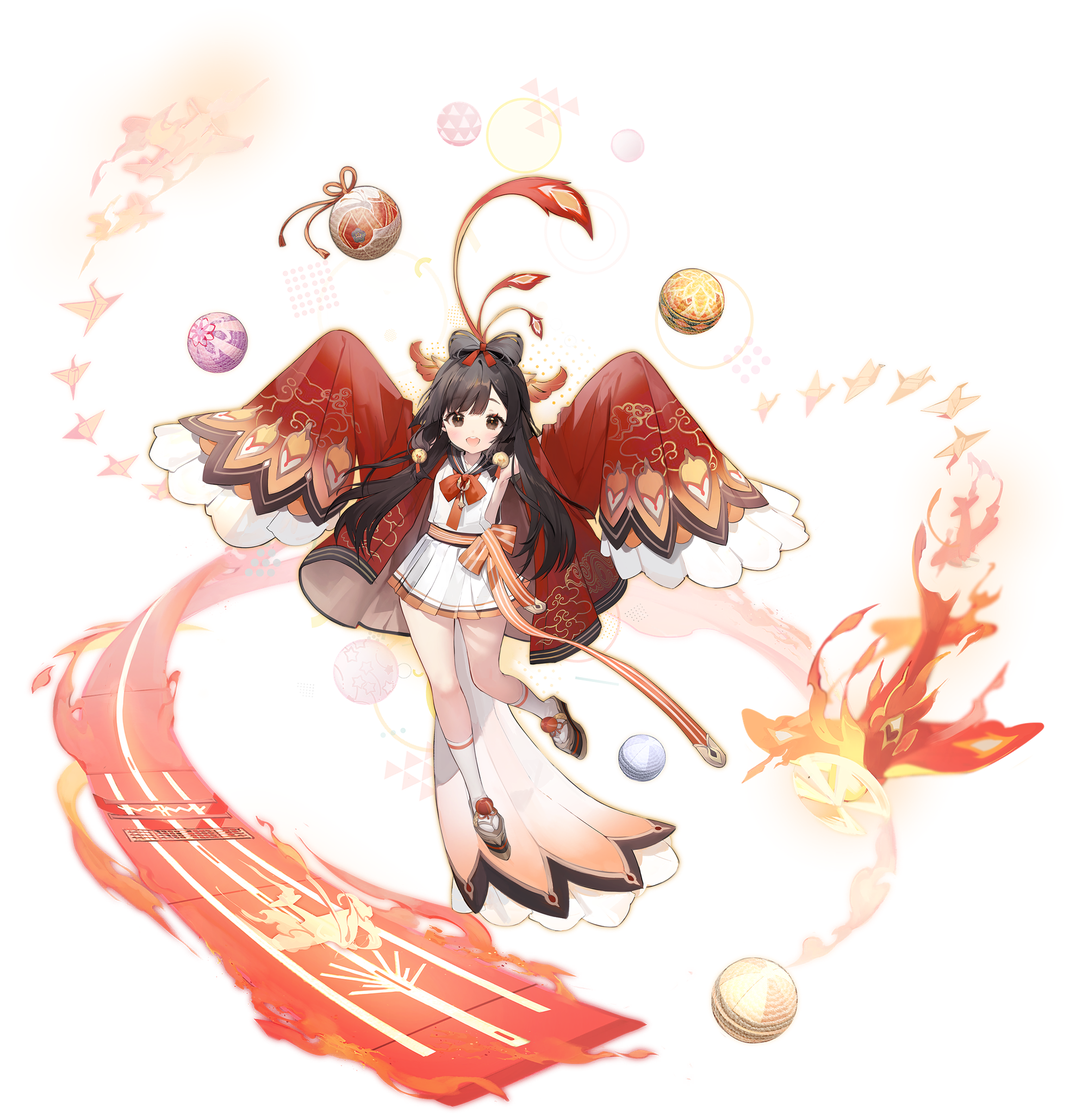person: (538, 325, 839, 801)
